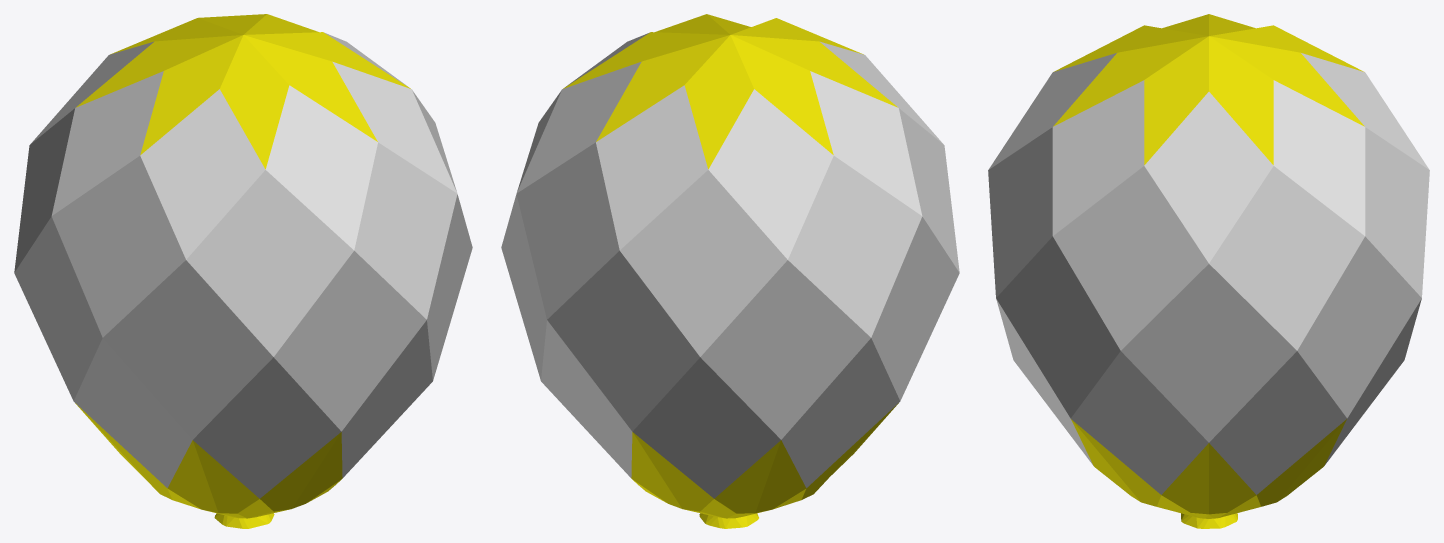
File: Balloon2.fbx
3 renders of one model, left to right at view 1: azimuth 30°, elevation 25°; view 2: azimuth 150°, elevation 25°; view 3: azimuth 270°, elevation 25°, orthographic.
Visible parts, largest first — view 1: Balloon2; view 2: Balloon2; view 3: Balloon2.
Part boxes in pixels (box(x1,y1,x2,y2)): Balloon2: box(14, 14, 472, 528); Balloon2: box(501, 14, 959, 528); Balloon2: box(988, 14, 1429, 528).
Bounding box in the file's own units: 50.03 × 60.02 × 50.03.
